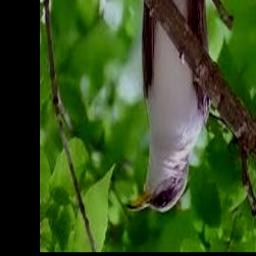Cuckoo: (127, 0, 211, 214)
